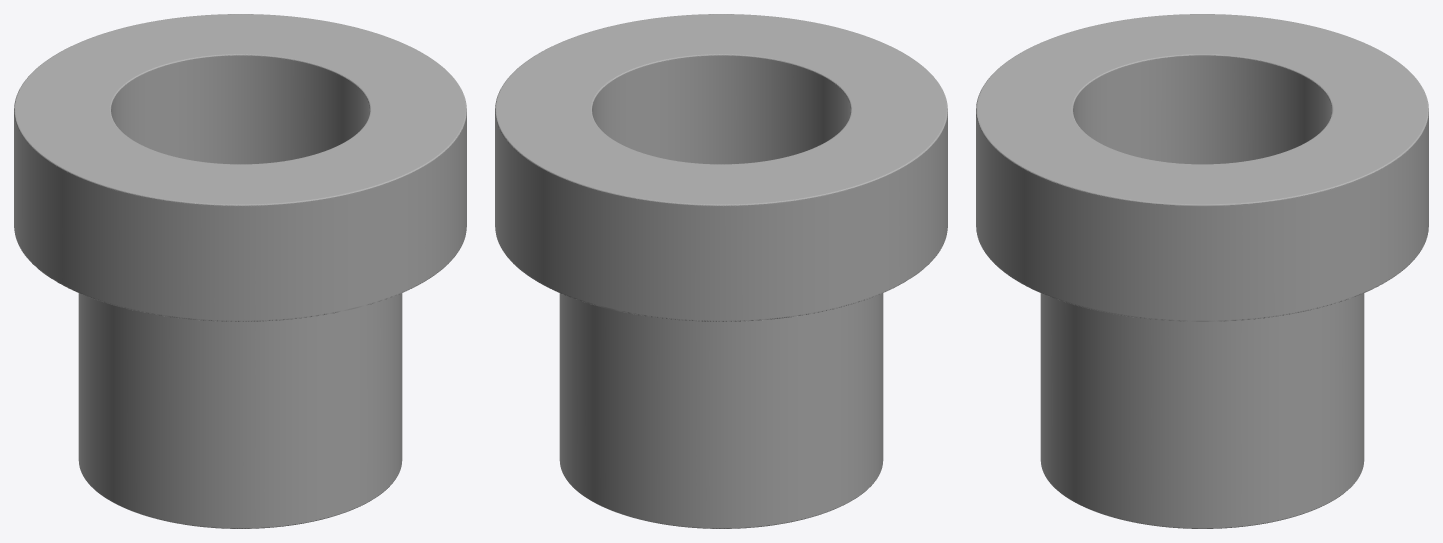
Rendered from Pipe2.fbx.
3 views of the same model, side by side, from view 1: azimuth 30°, elevation 25°; view 2: azimuth 150°, elevation 25°; view 3: azimuth 270°, elevation 25° (orthographic).
Parts seen in each view (by area): view 1: Pipe2; view 2: Pipe2; view 3: Pipe2.
Boxes of the visible parts, x1=… form: Pipe2: x1=14, y1=14, x2=466, y2=528; Pipe2: x1=495, y1=14, x2=947, y2=528; Pipe2: x1=976, y1=14, x2=1428, y2=528.
Size of the model in its own units: 199 by 171 by 199.
